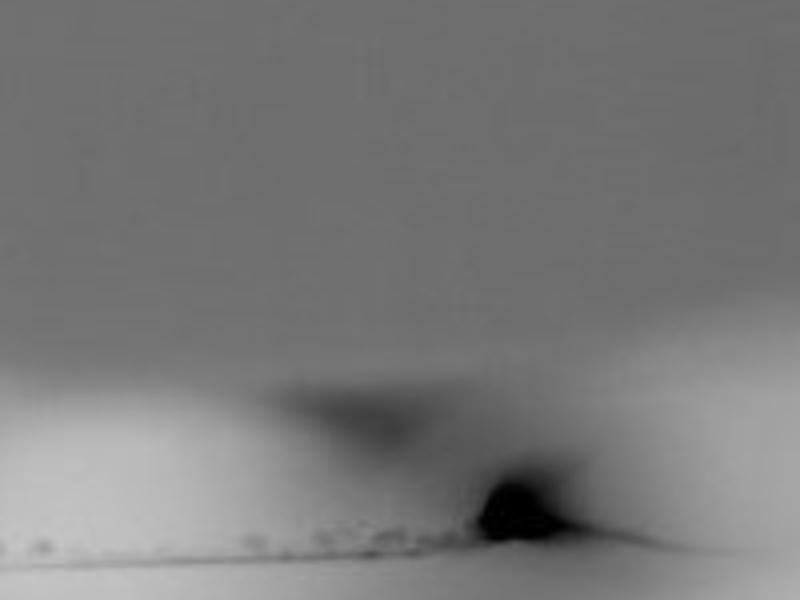defect: (474, 482, 571, 539)
